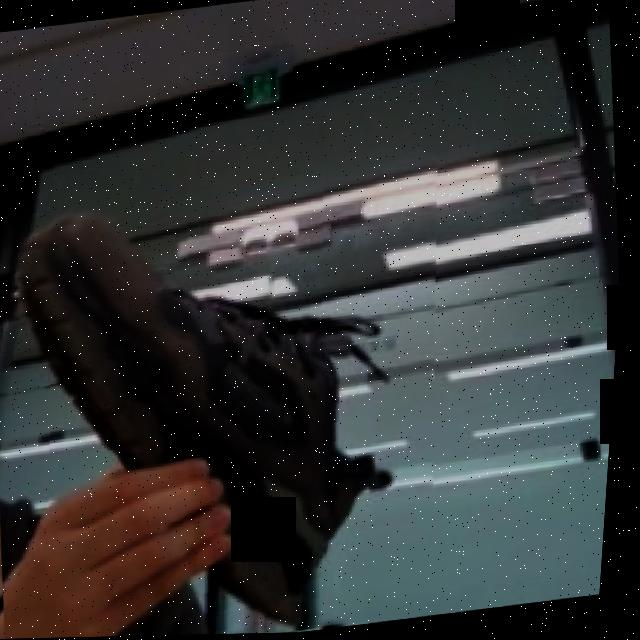shoe: (0, 95, 494, 640)
